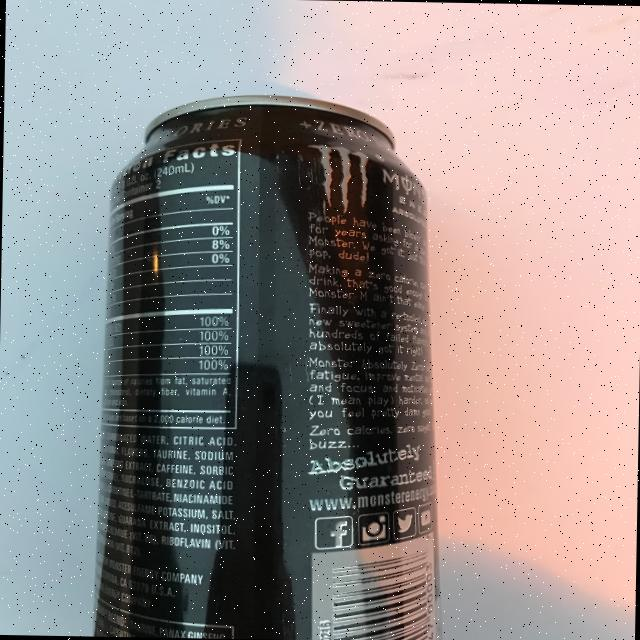metal: (92, 90, 450, 640)
